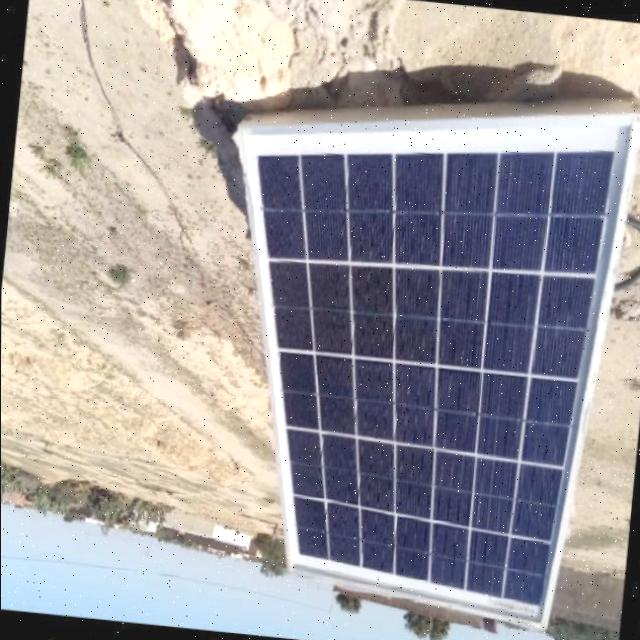Normal Solar Panel: (198, 76, 640, 632)
